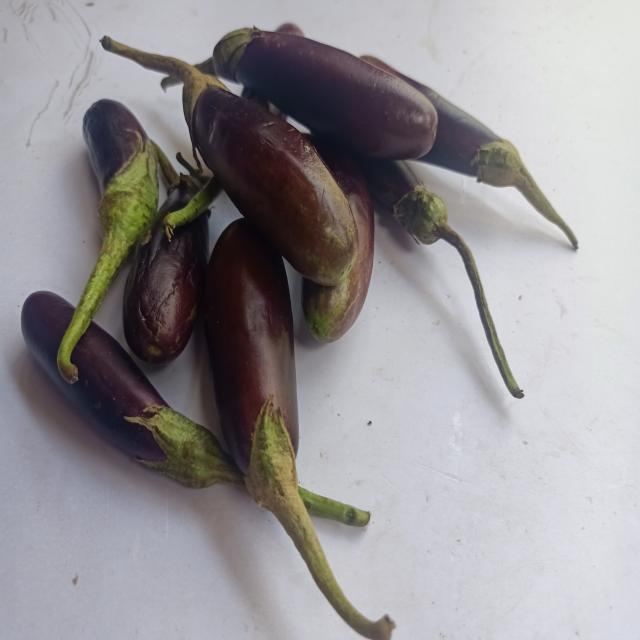Brinjal: (204, 220, 395, 640), (20, 291, 244, 488), (213, 27, 438, 159), (56, 98, 158, 383), (301, 489, 370, 526)
